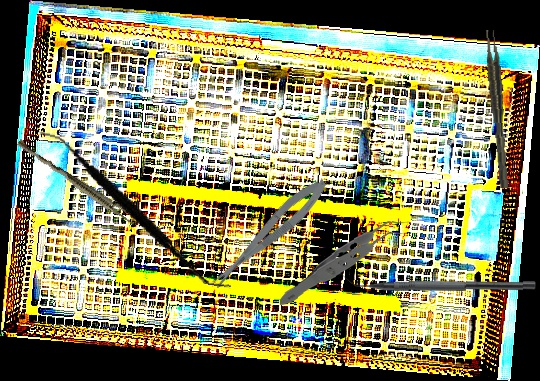Chopper: (338, 268, 537, 294)
Micro Scissor: (204, 173, 334, 293)
Spatula Surgical: (15, 129, 254, 289)
Tissue Forceps: (275, 219, 415, 307), (13, 138, 140, 227), (483, 29, 510, 189)
